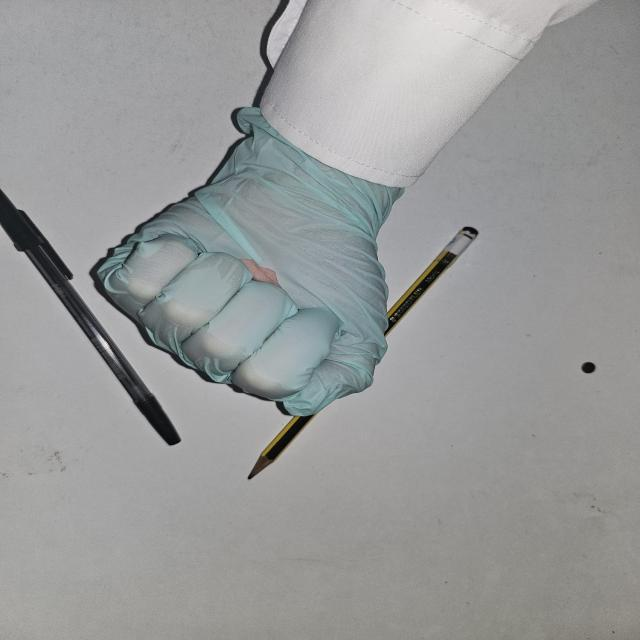gloves_damaged: (87, 101, 393, 416)
